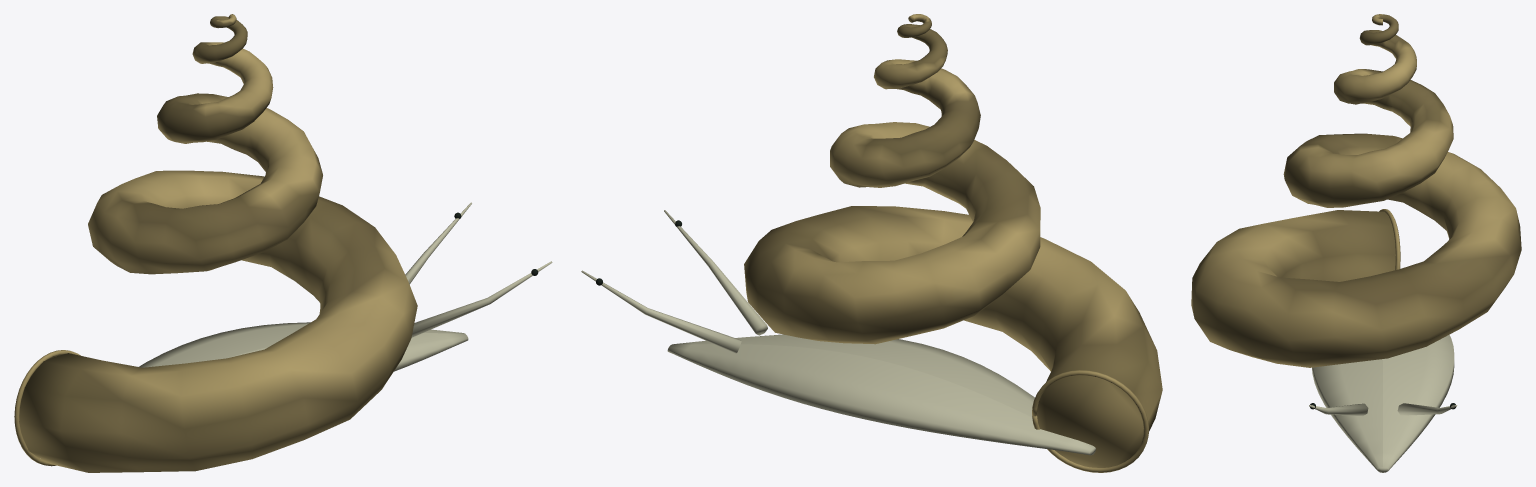
The model's file is assassin-mobile.glb.
The picture shows the model from 3 angles, left to right: view 1: azimuth 30°, elevation 25°; view 2: azimuth 150°, elevation 25°; view 3: azimuth 270°, elevation 25°; orthographic projection. The views are drawn at different scales.
Visible parts, largest first — view 1: continuous-whorled-shell, muscular-foot, cephalic-tentacle, aperture-lip; view 2: continuous-whorled-shell, muscular-foot, cephalic-tentacle, aperture-lip; view 3: continuous-whorled-shell, muscular-foot, cephalic-tentacle, aperture-lip.
Part boxes in pixels (bbox=[...]): continuous-whorled-shell: bbox=[19, 14, 417, 472]; muscular-foot: bbox=[139, 322, 468, 371]; cephalic-tentacle: bbox=[405, 202, 552, 337]; aperture-lip: bbox=[14, 350, 80, 466]; continuous-whorled-shell: bbox=[744, 14, 1162, 467]; muscular-foot: bbox=[667, 334, 1095, 455]; cephalic-tentacle: bbox=[581, 210, 767, 353]; aperture-lip: bbox=[1032, 370, 1148, 472]; continuous-whorled-shell: bbox=[1191, 14, 1521, 367]; muscular-foot: bbox=[1312, 334, 1454, 472]; cephalic-tentacle: bbox=[1309, 403, 1457, 416]; aperture-lip: bbox=[1379, 209, 1400, 269].
Bounding box in the file's own units: 0.6513 × 0.4989 × 0.405.
